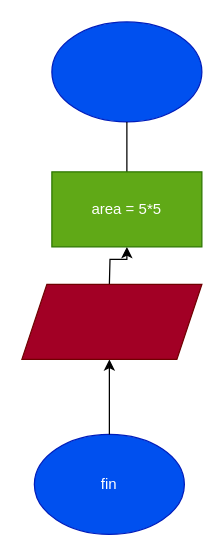
This 224x556 diagram has some shape labels left out. Here are the shapes that lost their labels. From the top down, the centre of each, then its label:
the point at 126,71: inicio
the point at 111,321: escribir area
